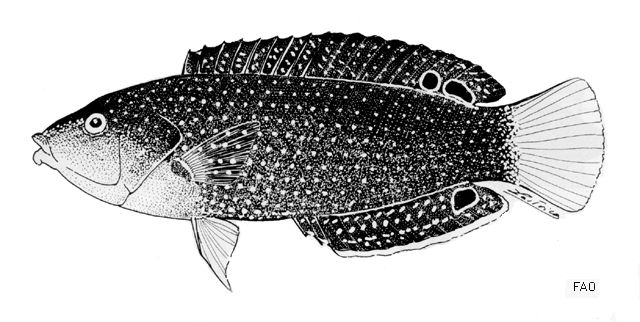fish: (32, 33, 608, 293)
